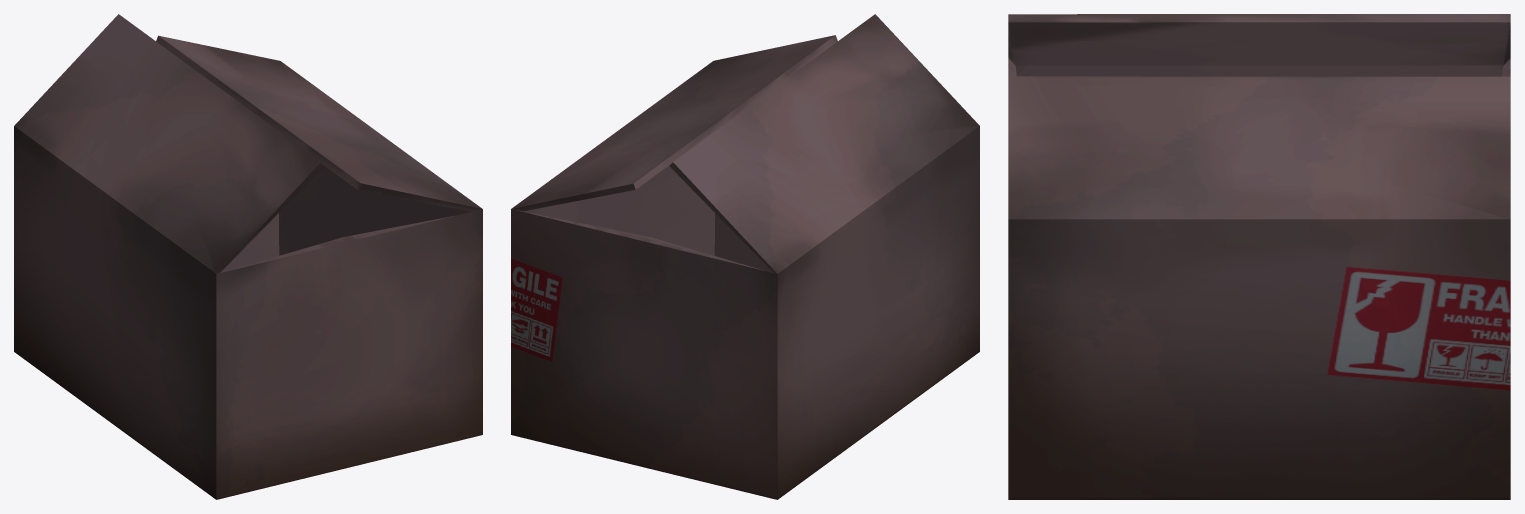
The picture shows the model from 3 angles, left to right: view 1: azimuth 30°, elevation 25°; view 2: azimuth 150°, elevation 25°; view 3: azimuth 270°, elevation 25°; orthographic projection. The views are drawn at different scales.
Visible parts, largest first — view 1: LOWPOLY; view 2: LOWPOLY; view 3: LOWPOLY.
Part boxes in pixels (x1,y1,x2,y2): LOWPOLY: (14, 14, 482, 499); LOWPOLY: (511, 14, 979, 499); LOWPOLY: (1008, 14, 1510, 499).
Size of the model in its own units: 618 by 693 by 813.
